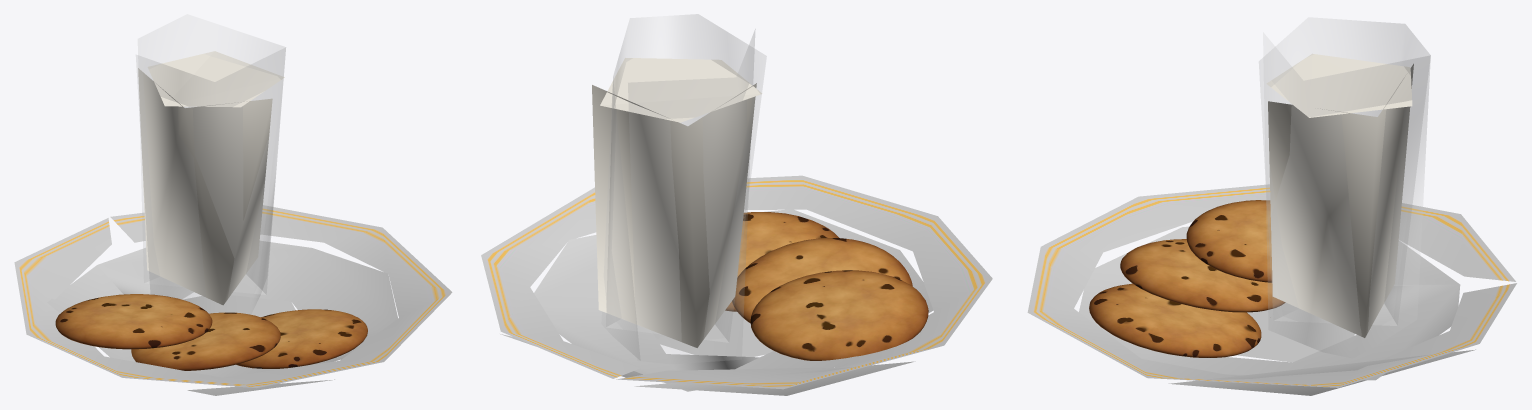
The model's file is cookies_plate.glb.
3 renders of one model, left to right at view 1: azimuth 30°, elevation 25°; view 2: azimuth 150°, elevation 25°; view 3: azimuth 270°, elevation 25°, orthographic. The views are drawn at different scales.
Visible parts, largest first — view 1: Plate_Plate_0, Glass_of_Milk_Glass_0, Glass_of_Milk_Milk_0, Cookie_1_Cookie3_0, Cookie_2_Cookie2_0, Cookie_3_Cookie1_0; view 2: Plate_Plate_0, Glass_of_Milk_Milk_0, Glass_of_Milk_Glass_0, Cookie_1_Cookie3_0, Cookie_2_Cookie2_0, Cookie_3_Cookie1_0; view 3: Glass_of_Milk_Glass_0, Plate_Plate_0, Glass_of_Milk_Milk_0, Cookie_3_Cookie1_0, Cookie_2_Cookie2_0, Cookie_1_Cookie3_0.
Part boxes in pixels (x1,y1,x2,y2): Plate_Plate_0: [14, 205, 452, 395]; Glass_of_Milk_Glass_0: [136, 14, 285, 314]; Glass_of_Milk_Milk_0: [138, 51, 284, 305]; Cookie_1_Cookie3_0: [55, 294, 212, 349]; Cookie_2_Cookie2_0: [131, 312, 280, 370]; Cookie_3_Cookie1_0: [236, 309, 367, 368]; Plate_Plate_0: [481, 175, 992, 395]; Glass_of_Milk_Milk_0: [592, 58, 762, 347]; Glass_of_Milk_Glass_0: [601, 14, 766, 363]; Cookie_1_Cookie3_0: [750, 270, 928, 360]; Cookie_2_Cookie2_0: [732, 238, 912, 323]; Cookie_3_Cookie1_0: [725, 212, 838, 311]; Glass_of_Milk_Glass_0: [1259, 17, 1430, 357]; Plate_Plate_0: [1027, 184, 1516, 395]; Glass_of_Milk_Milk_0: [1266, 53, 1413, 337]; Cookie_3_Cookie1_0: [1089, 283, 1261, 357]; Cookie_2_Cookie2_0: [1120, 239, 1285, 312]; Cookie_1_Cookie3_0: [1186, 200, 1272, 282].
Size of the model in its own units: 0.2421 by 0.1641 by 0.2464.
Materials: 8 (6 with a texture image).
